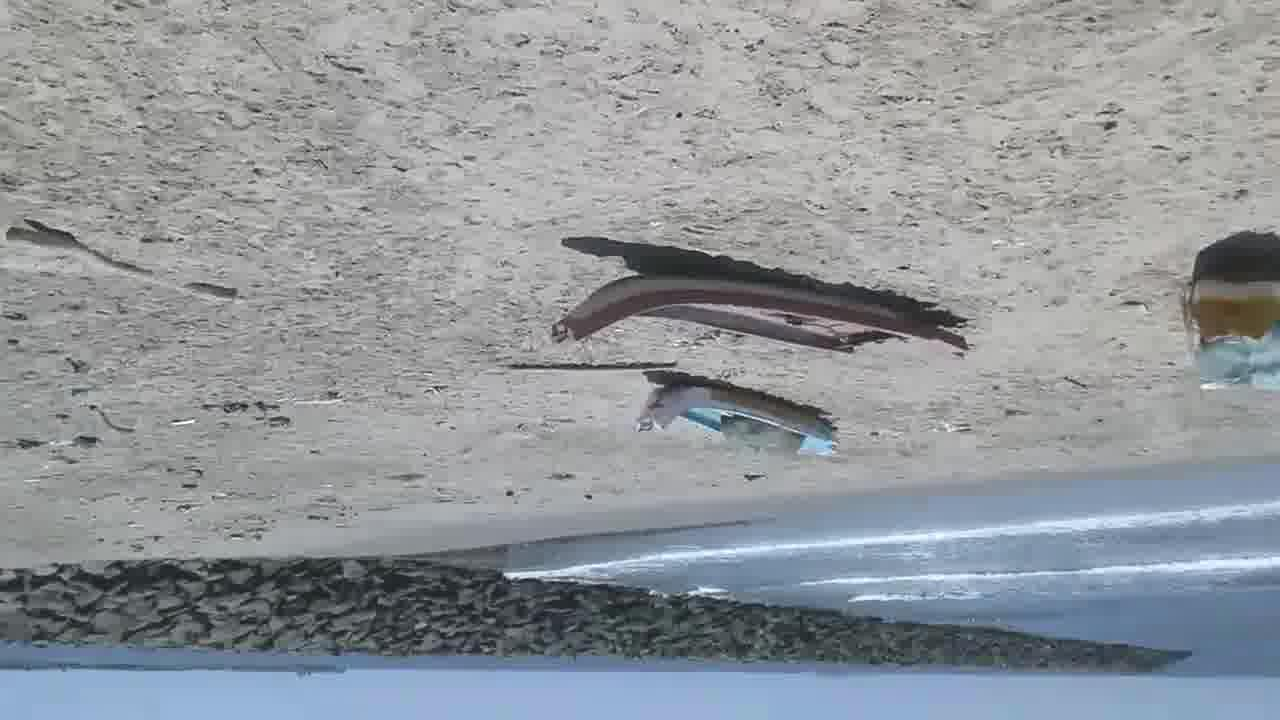large collection of objects: (546, 262, 970, 366), (641, 375, 840, 459), (1180, 253, 1276, 400)
obj: (9, 230, 241, 307), (193, 400, 294, 434), (5, 434, 109, 454), (920, 414, 979, 436), (294, 390, 346, 406), (1116, 299, 1152, 318), (161, 415, 200, 428)
sand/background: (1, 461, 1279, 720)
